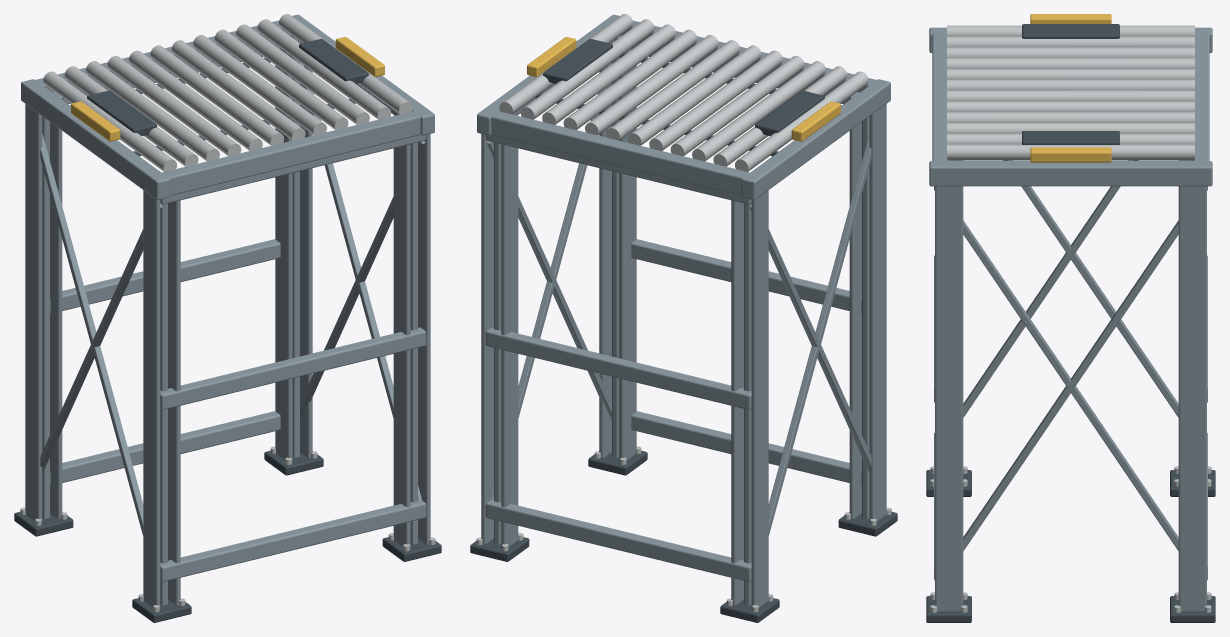
The model's file is pit_cad_cooling_bay_v1.glb.
3 views of the same model, side by side, from view 1: azimuth 30°, elevation 25°; view 2: azimuth 150°, elevation 25°; view 3: azimuth 270°, elevation 25° (orthographic). The views are drawn at different scales.
Visible parts, largest first — view 1: pit_cad_cooling_bay_v1_galvanized_structural_steel, pit_cad_cooling_bay_v1_machined_fasteners, pit_cad_cooling_bay_v1_recessed_steel, pit_cad_cooling_bay_v1_safety_ochre; view 2: pit_cad_cooling_bay_v1_galvanized_structural_steel, pit_cad_cooling_bay_v1_machined_fasteners, pit_cad_cooling_bay_v1_recessed_steel, pit_cad_cooling_bay_v1_safety_ochre; view 3: pit_cad_cooling_bay_v1_galvanized_structural_steel, pit_cad_cooling_bay_v1_machined_fasteners, pit_cad_cooling_bay_v1_recessed_steel, pit_cad_cooling_bay_v1_safety_ochre.
Part boxes in pixels (<box>): pit_cad_cooling_bay_v1_galvanized_structural_steel: <box>21,14,434,609</box>; pit_cad_cooling_bay_v1_machined_fasteners: <box>20,14,435,612</box>; pit_cad_cooling_bay_v1_recessed_steel: <box>14,39,441,622</box>; pit_cad_cooling_bay_v1_safety_ochre: <box>71,37,384,141</box>; pit_cad_cooling_bay_v1_galvanized_structural_steel: <box>477,14,890,609</box>; pit_cad_cooling_bay_v1_machined_fasteners: <box>476,14,891,612</box>; pit_cad_cooling_bay_v1_recessed_steel: <box>470,39,897,622</box>; pit_cad_cooling_bay_v1_safety_ochre: <box>527,37,840,141</box>; pit_cad_cooling_bay_v1_galvanized_structural_steel: <box>929,27,1212,611</box>; pit_cad_cooling_bay_v1_machined_fasteners: <box>930,25,1211,612</box>; pit_cad_cooling_bay_v1_recessed_steel: <box>926,24,1215,622</box>; pit_cad_cooling_bay_v1_safety_ochre: <box>1030,14,1111,162</box>.
Size of the model in its own units: 3.16 by 4.75 by 2.66.
